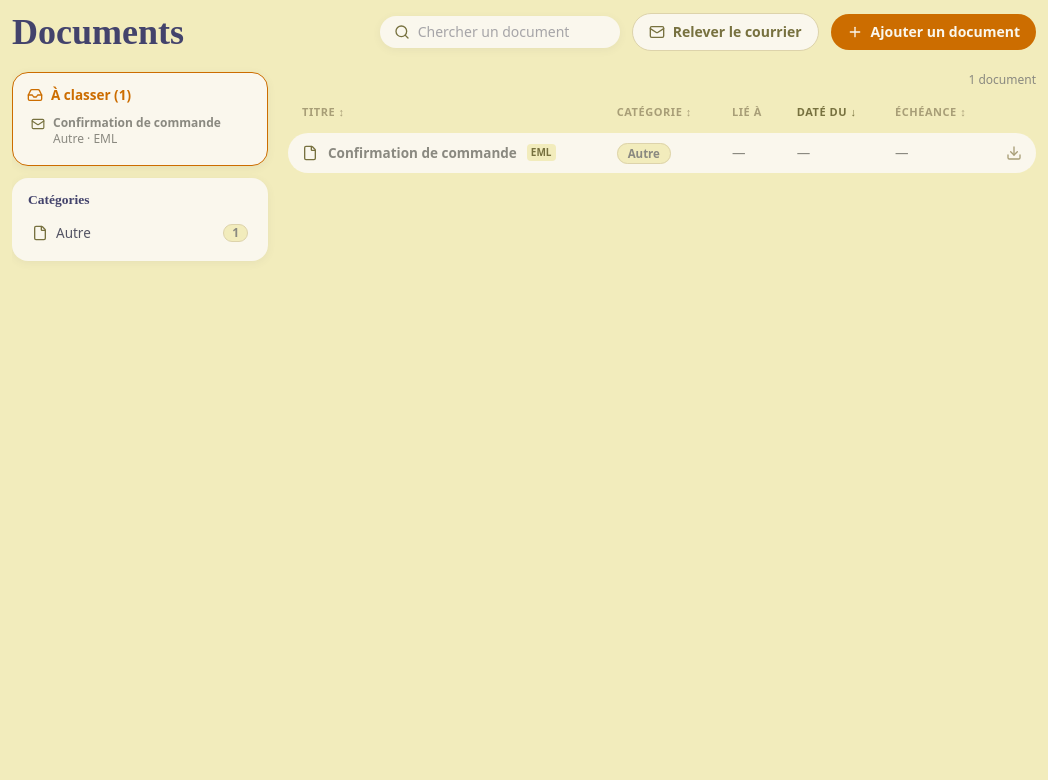
Test: un courriel archivé montre son aperçu dans le tiroir
# Le titre apparaît dans la boîte À classer et dans la table : n'importe lequel ouvre le tiroir.
Step 1. Click the text "Confirmation de commande" below "À classer (" → {"x": 137, "y": 123}, box top-left (53, 115), bottom-right (221, 131)
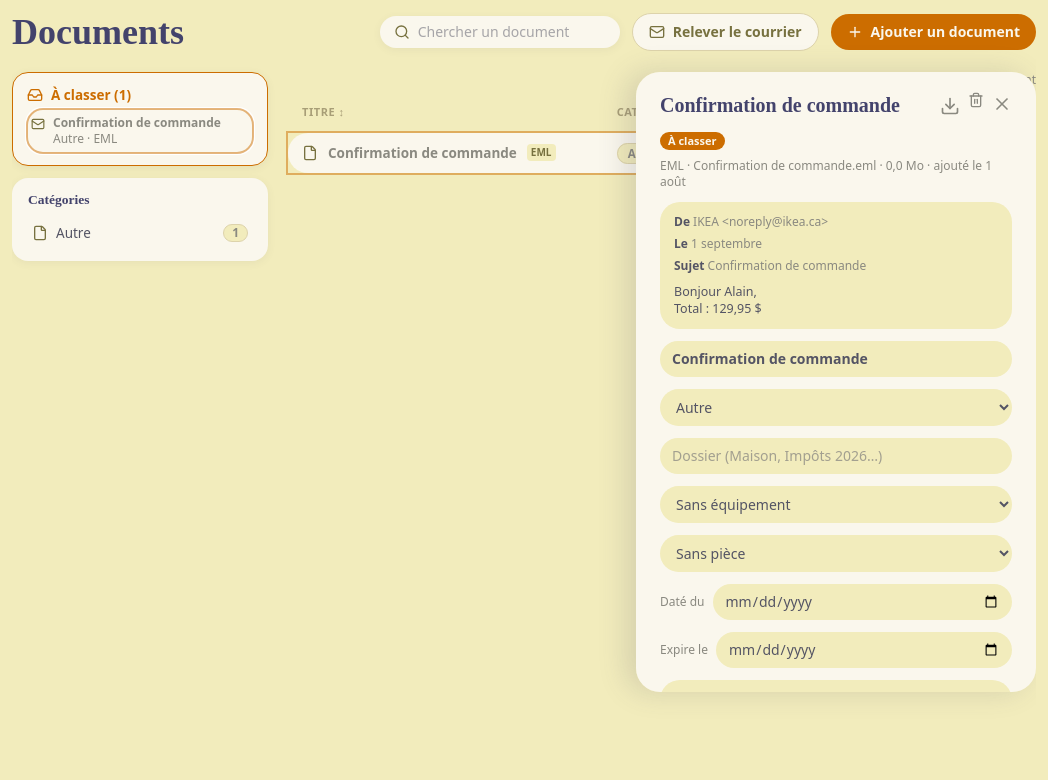
Expected: the text "EML" is shown, top-left (527, 144), bottom-right (556, 161)
Expected: the text "IKEA <noreply@ikea.ca>" is shown, top-left (693, 213), bottom-right (828, 230)
Expected: the text named "Texte du courriel" shows "Total : 129,95 $", top-left (674, 283), bottom-right (762, 317)
